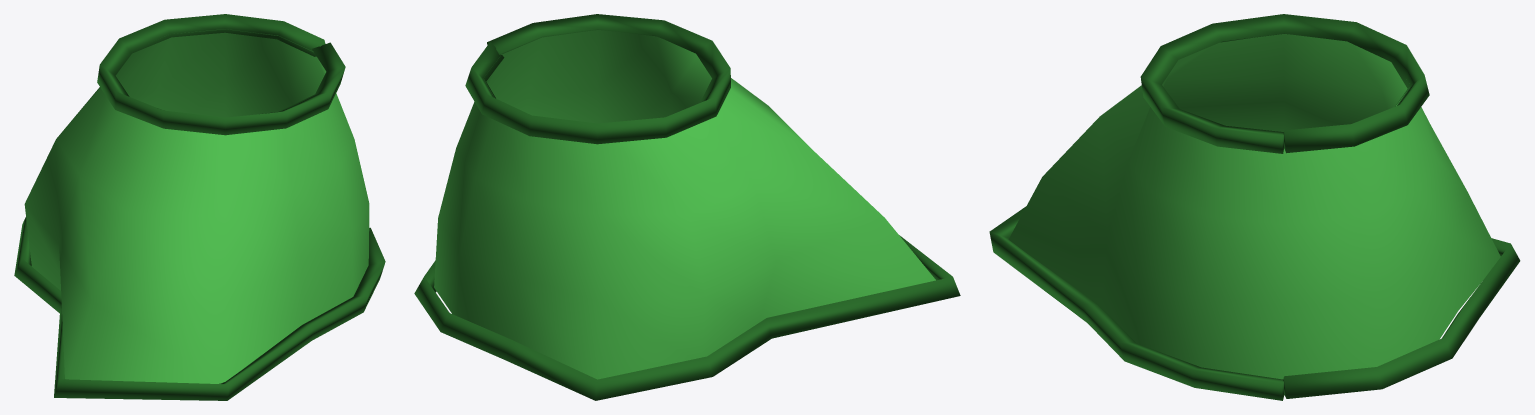
File: chlorophyte_armor_pauldron.R.glb
The picture shows the model from 3 angles, left to right: view 1: azimuth 30°, elevation 25°; view 2: azimuth 150°, elevation 25°; view 3: azimuth 270°, elevation 25°; orthographic projection. The views are drawn at different scales.
Parts seen in each view (by area): view 1: chlorophyte_armor_pauldron.R; view 2: chlorophyte_armor_pauldron.R; view 3: chlorophyte_armor_pauldron.R.
Boxes of the visible parts, x1,y1,x2,y2 form: chlorophyte_armor_pauldron.R: [14, 14, 385, 400]; chlorophyte_armor_pauldron.R: [414, 14, 960, 400]; chlorophyte_armor_pauldron.R: [989, 14, 1520, 400].
Size of the model in its own units: 0.3204 by 0.1646 by 0.3194.
